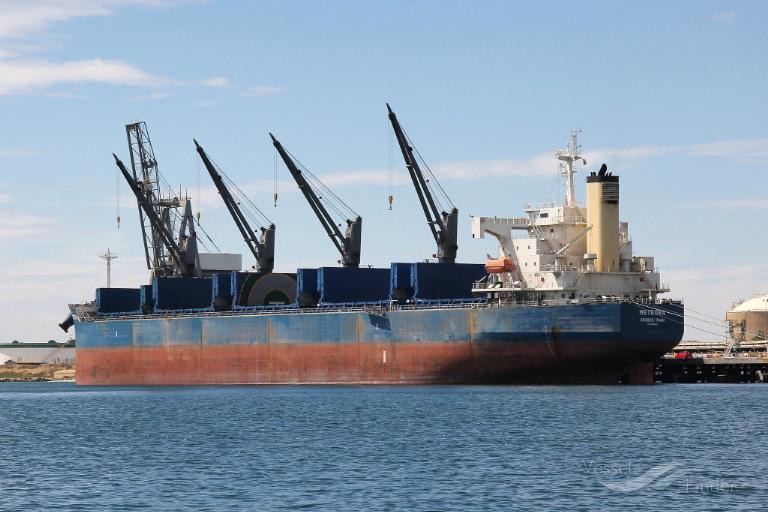OCR: (632, 305, 676, 331)
